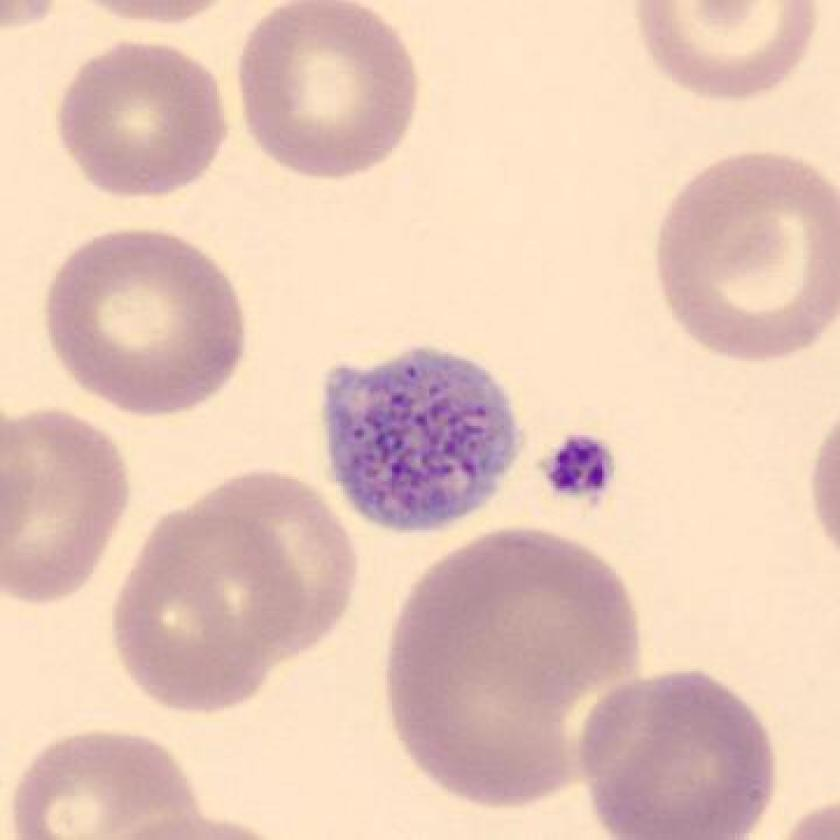platelets: (318, 341, 533, 533), (526, 429, 622, 506)
